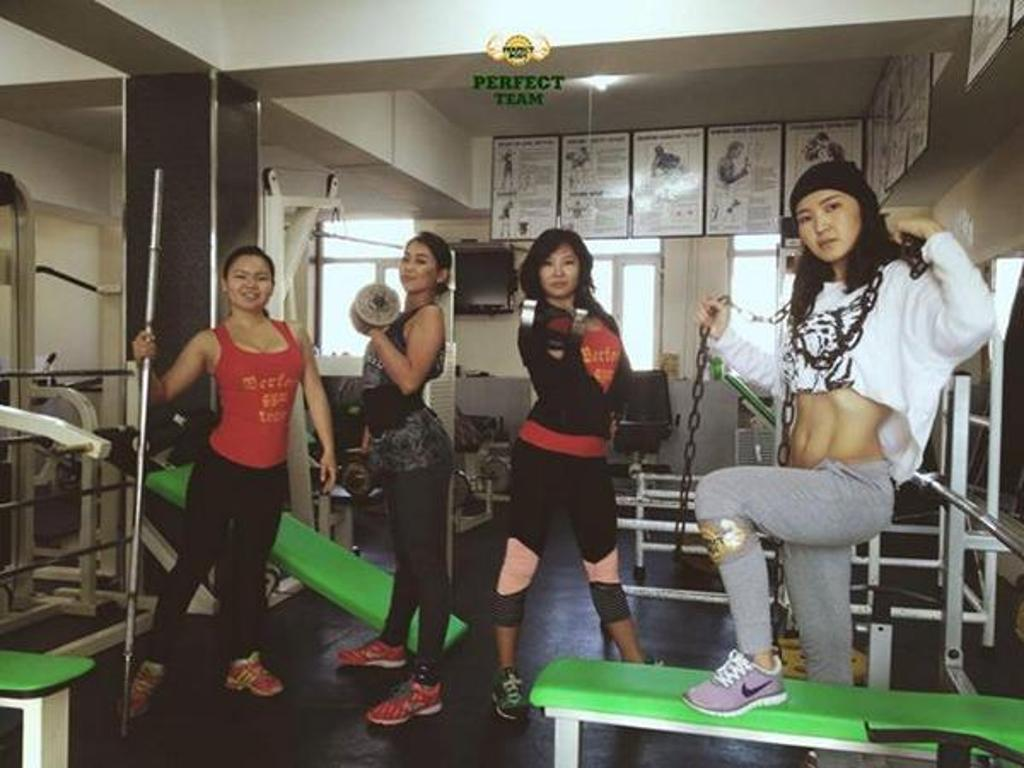face: (793, 188, 861, 264), (227, 254, 270, 309), (538, 243, 580, 297), (399, 237, 435, 293), (734, 146, 743, 158)
